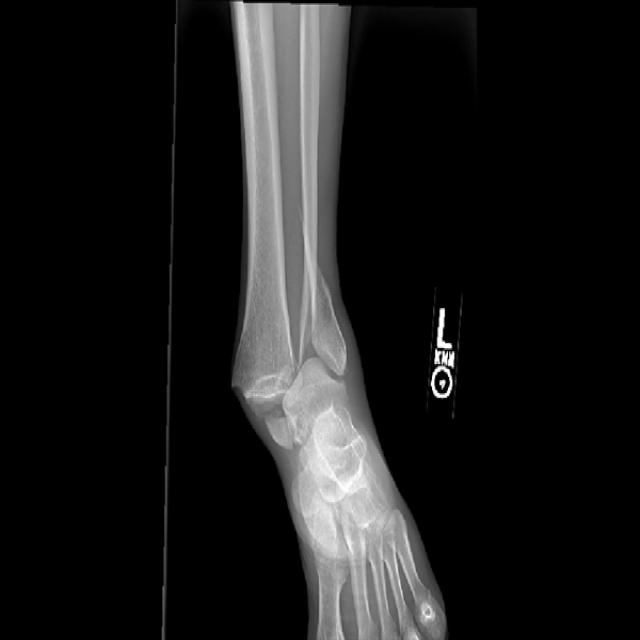fracture: (211, 309, 311, 448)
